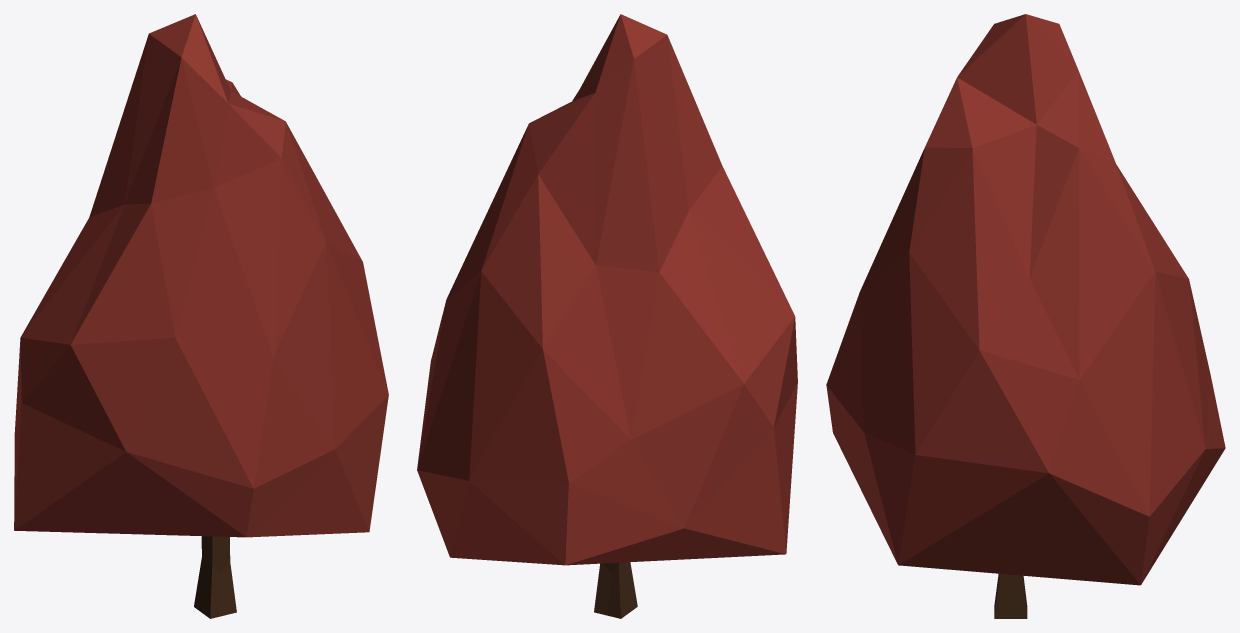
File: Tree_11_Red.fbx
The picture shows the model from 3 angles, left to right: view 1: azimuth 30°, elevation 25°; view 2: azimuth 150°, elevation 25°; view 3: azimuth 270°, elevation 25°; orthographic projection.
Parts seen in each view (by area): view 1: Tree_11_Red; view 2: Tree_11_Red; view 3: Tree_11_Red.
Part boxes in pixels (x1,y1,x2,y2): Tree_11_Red: [14, 14, 388, 618]; Tree_11_Red: [417, 14, 797, 618]; Tree_11_Red: [826, 14, 1225, 618].
Size of the model in its own units: 483 by 790 by 483.
